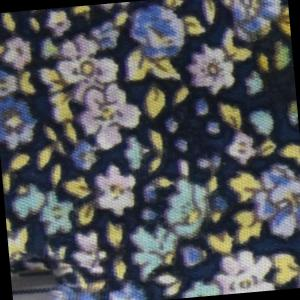Damage: (9, 242, 81, 300)
Stain: (225, 2, 299, 126)
